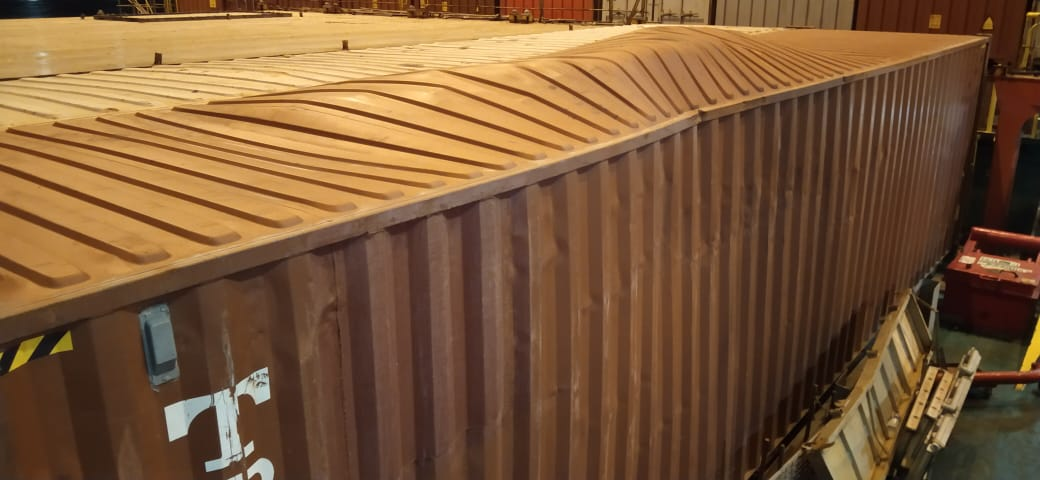bulged: (402, 33, 776, 132)
